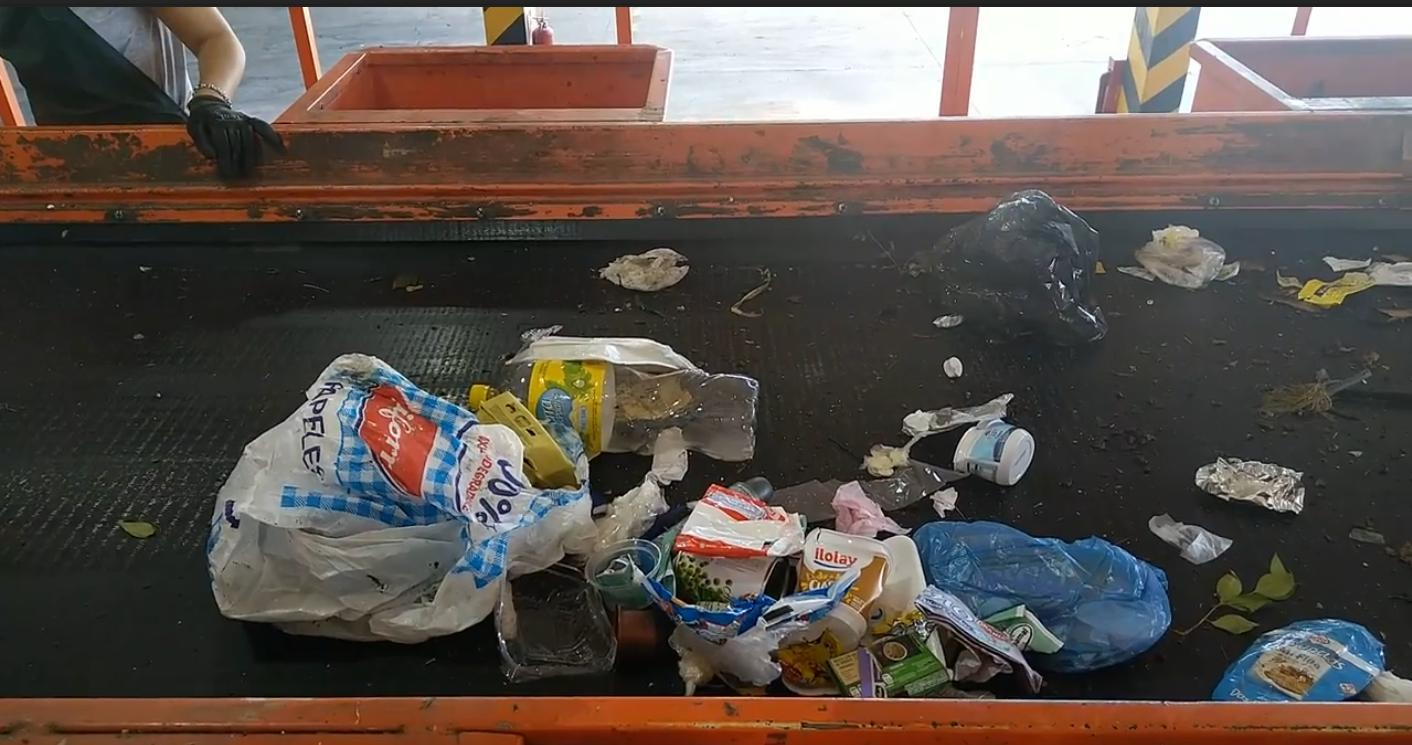bottle: (492, 357, 778, 467)
